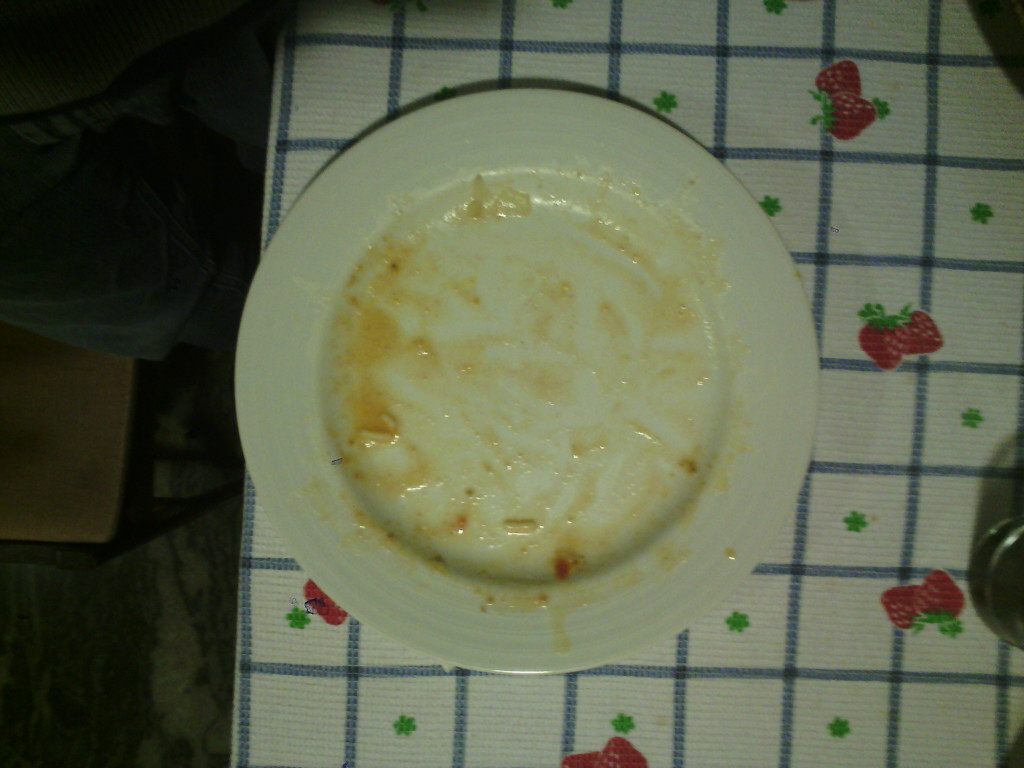0-20: (233, 92, 821, 674)
